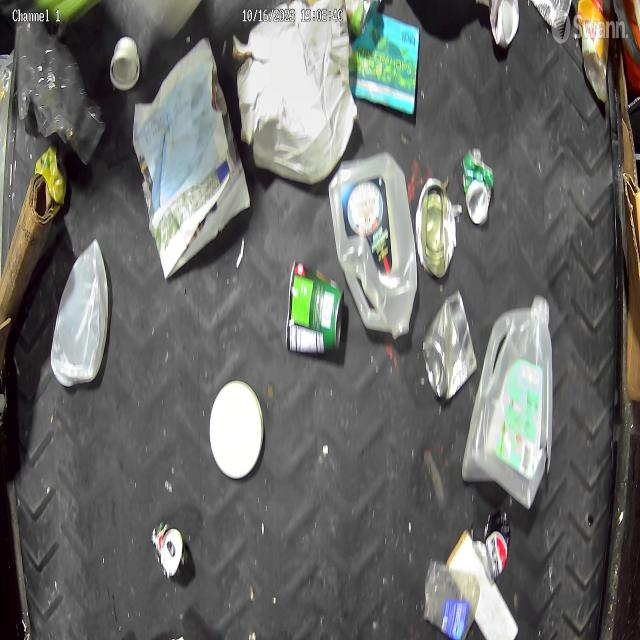can: (421, 289, 480, 404), (284, 254, 347, 360), (415, 174, 460, 280), (470, 506, 512, 586), (461, 146, 496, 226), (149, 517, 189, 582), (488, 0, 520, 52), (529, 0, 572, 29)
milk_jug: (459, 291, 556, 510), (328, 149, 419, 345), (49, 237, 111, 393)
